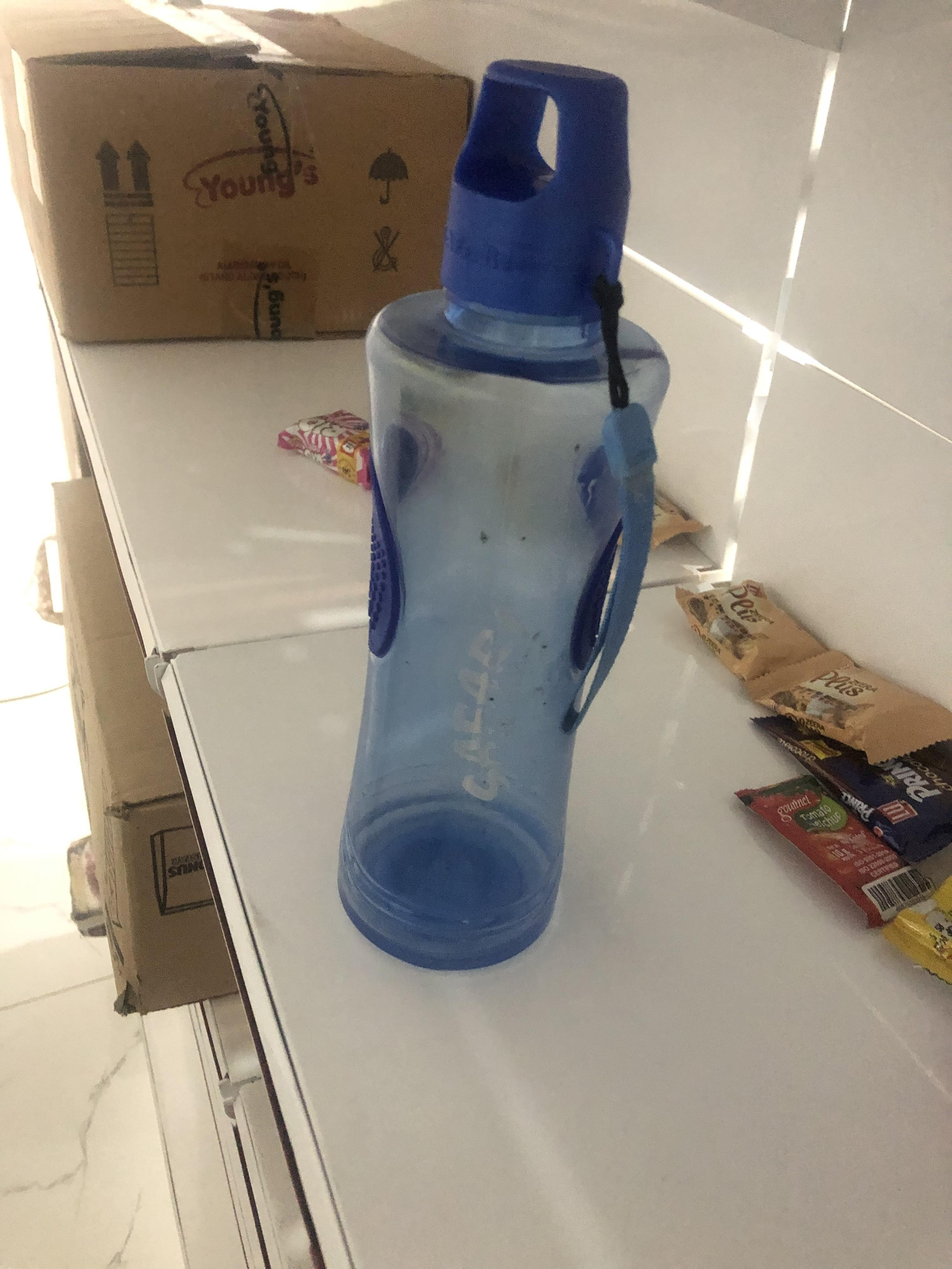gym bottle: (322, 52, 682, 980)
